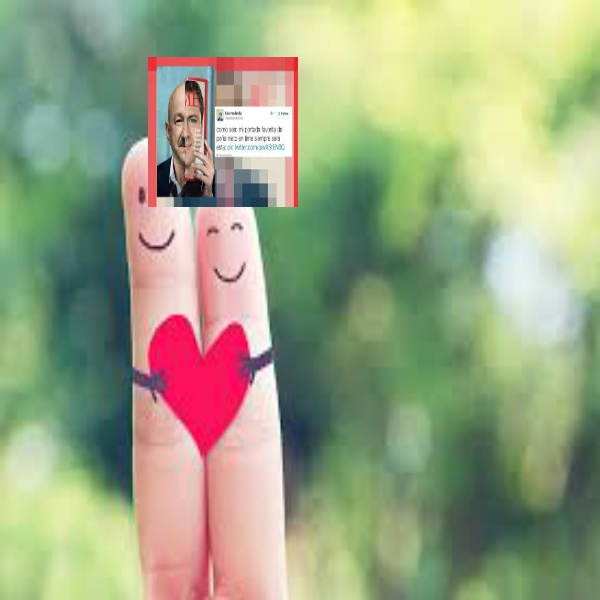time_cover: (146, 60, 216, 198)
